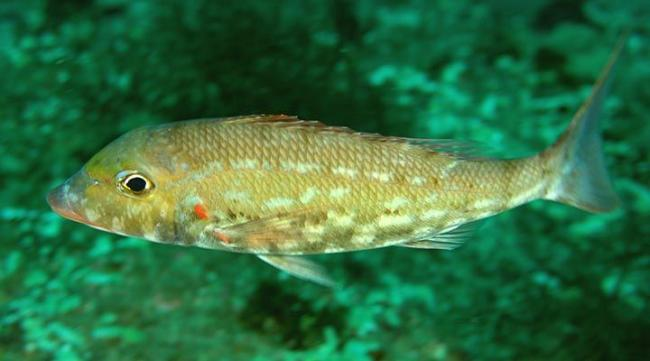fish: (46, 60, 623, 253)
